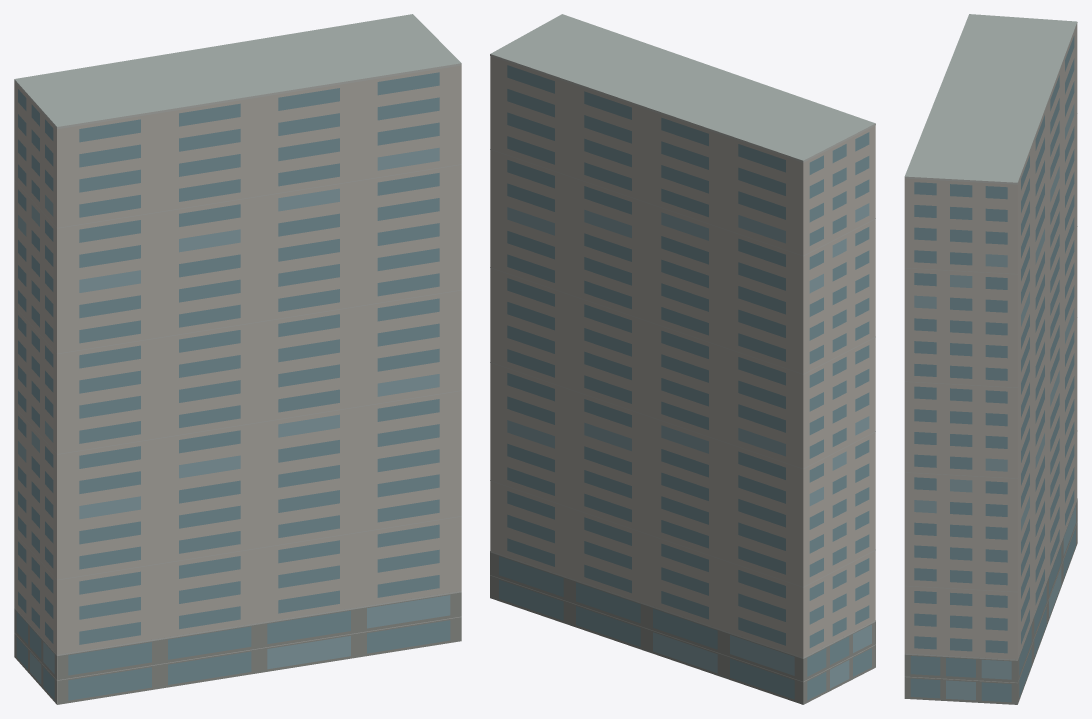
File: residential-4b745701-3872-4b3b-babd-05291e2c0758.glb
3 views of the same model, side by side, from view 1: azimuth 30°, elevation 25°; view 2: azimuth 150°, elevation 25°; view 3: azimuth 270°, elevation 25° (orthographic). The views are drawn at different scales.
Visible parts, largest first — view 1: residential-4b745701-3872-4b3b-babd-05291e2c0758.tmp; view 2: residential-4b745701-3872-4b3b-babd-05291e2c0758.tmp; view 3: residential-4b745701-3872-4b3b-babd-05291e2c0758.tmp.
Boxes of the visible parts, x1=… form: residential-4b745701-3872-4b3b-babd-05291e2c0758.tmp: x1=14, y1=14, x2=461, y2=704; residential-4b745701-3872-4b3b-babd-05291e2c0758.tmp: x1=490, y1=14, x2=875, y2=704; residential-4b745701-3872-4b3b-babd-05291e2c0758.tmp: x1=904, y1=14, x2=1077, y2=704.
Bounding box in the file's own units: 44.38 × 64 × 19.23.
